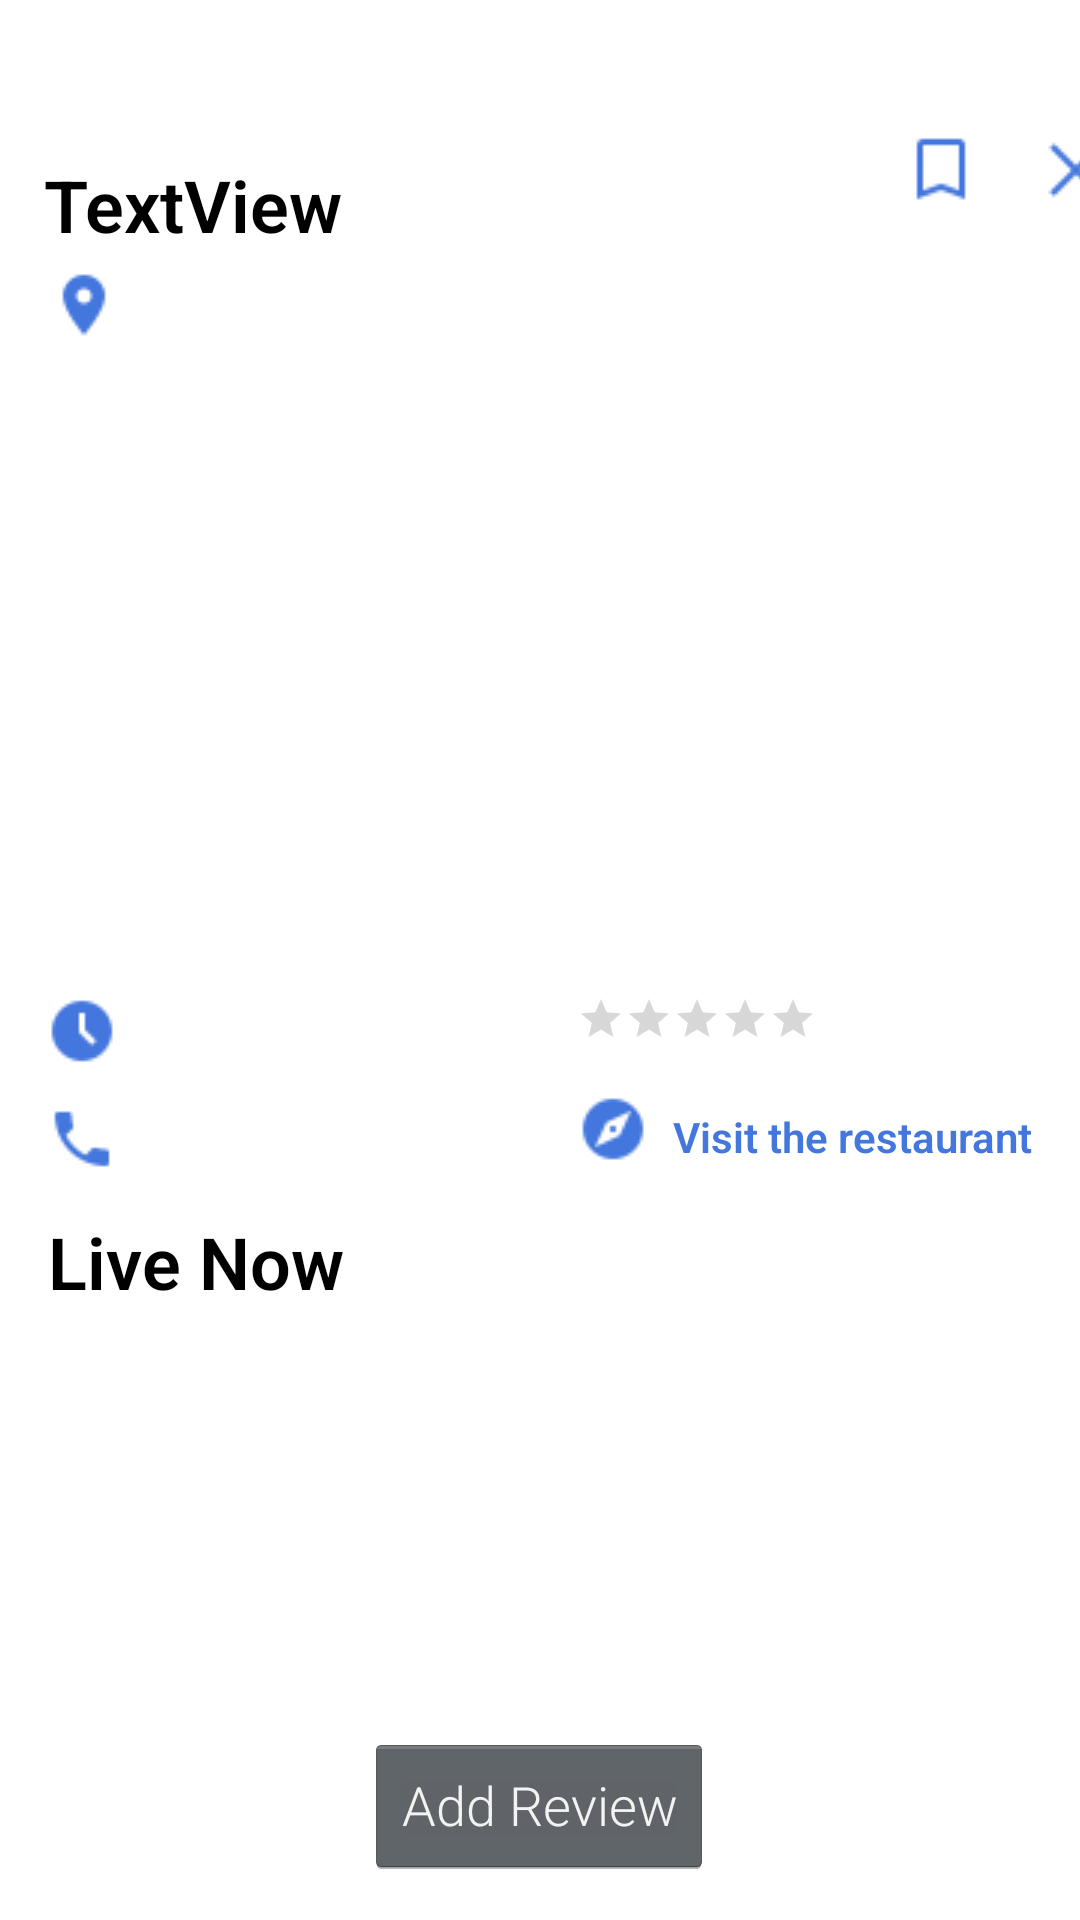

Where to tap for icons on this 1080px×1920px app screen, as point (x, y):
bookmark: point (941, 169)
compass: point (613, 1129)
hours: point (82, 1031)
phone: point (82, 1139)
post location: point (84, 305)
